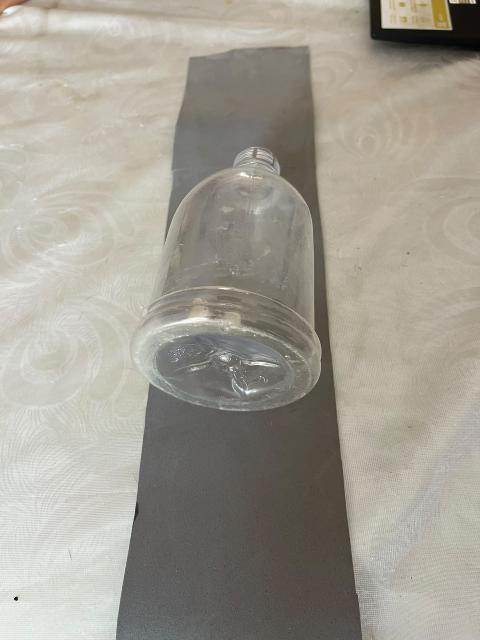PET: (111, 120, 353, 429)
